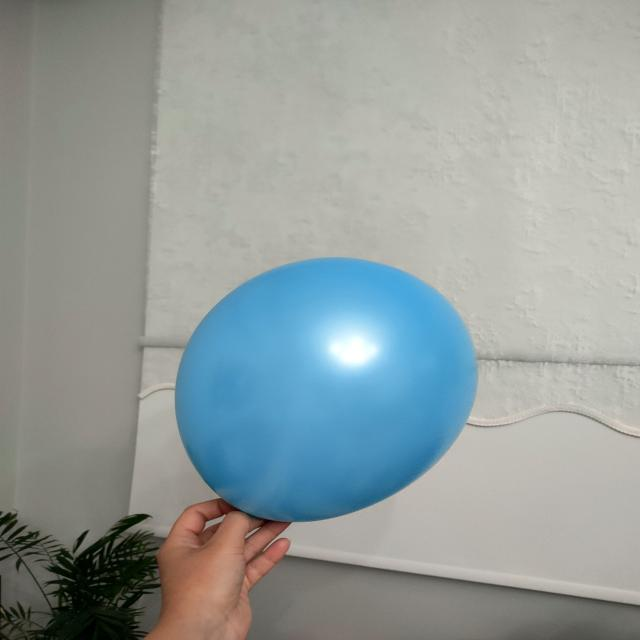blue: (178, 257, 480, 525)
